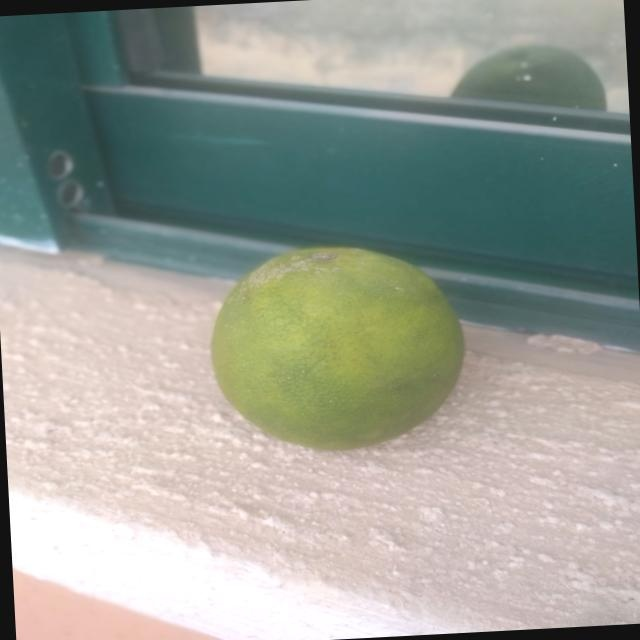agrume: (176, 227, 480, 472)
